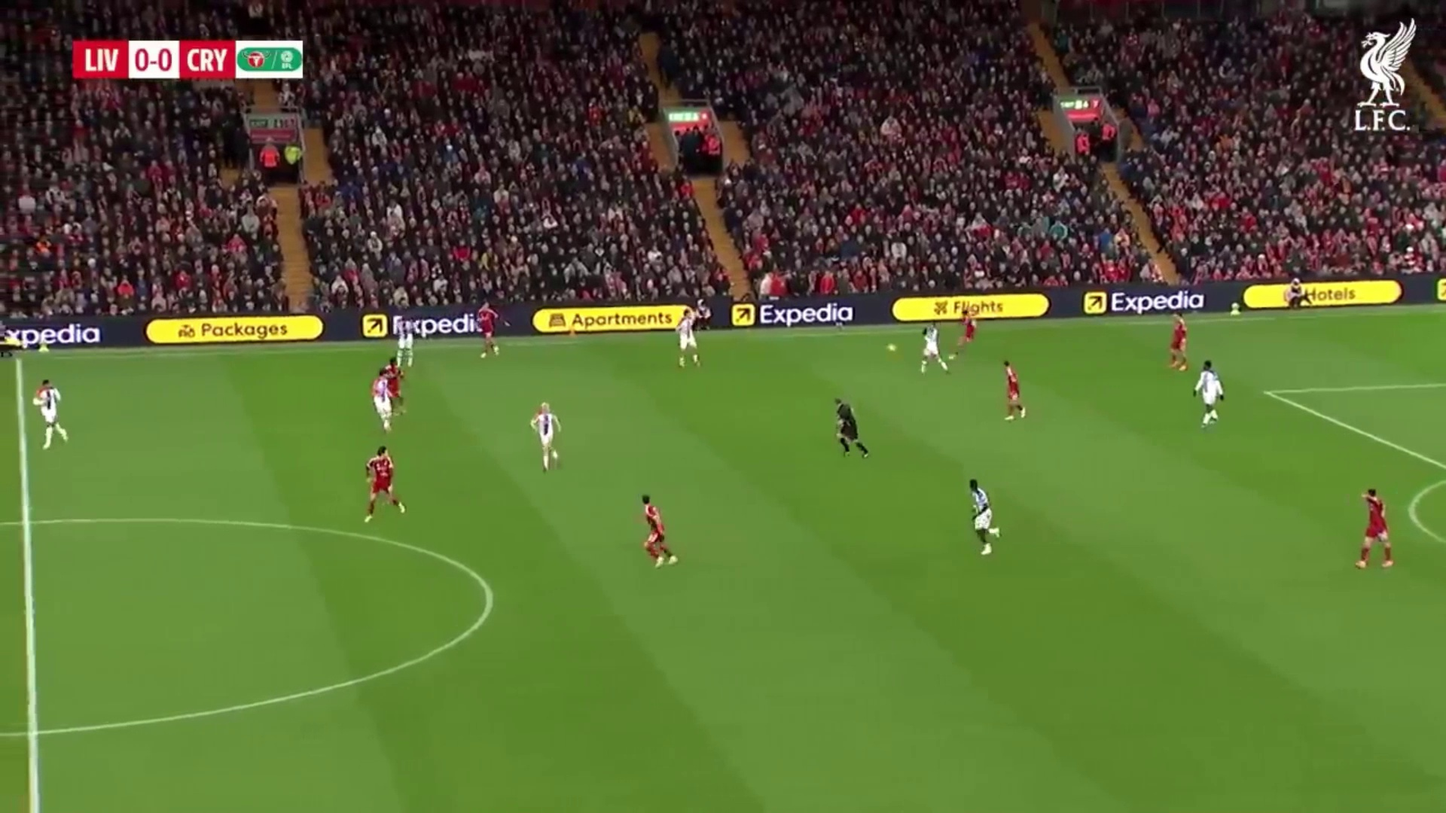player: (1356, 487, 1396, 571), (363, 446, 403, 521), (639, 495, 678, 569), (966, 478, 997, 557), (531, 400, 562, 473), (834, 397, 870, 458), (35, 378, 64, 451), (1195, 359, 1224, 431), (372, 360, 402, 428), (675, 303, 703, 369), (1167, 314, 1191, 375), (1003, 362, 1027, 422), (919, 323, 947, 373), (477, 301, 500, 359), (957, 307, 977, 348)
